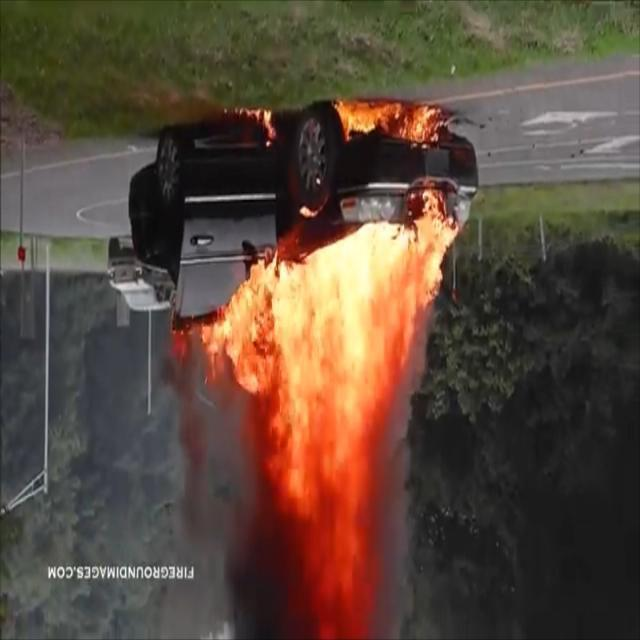fire: (171, 195, 473, 638), (242, 98, 457, 166)
